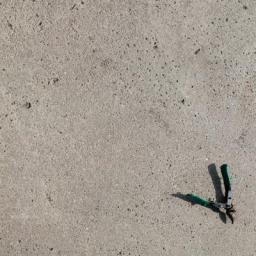FOD: (169, 162, 241, 227)
